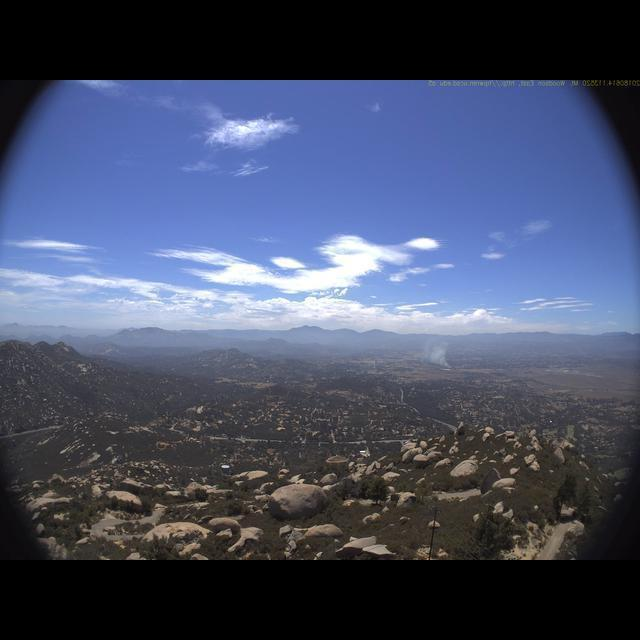Smoke: (418, 339, 456, 370)
